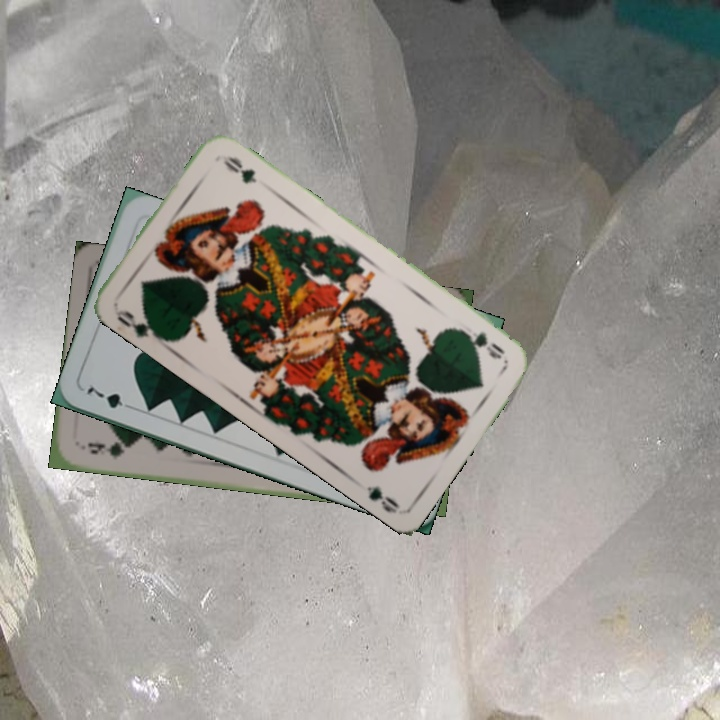G7: (82, 382, 138, 413)
G9: (83, 438, 133, 460)
GO: (455, 324, 508, 362), (111, 306, 165, 343)
